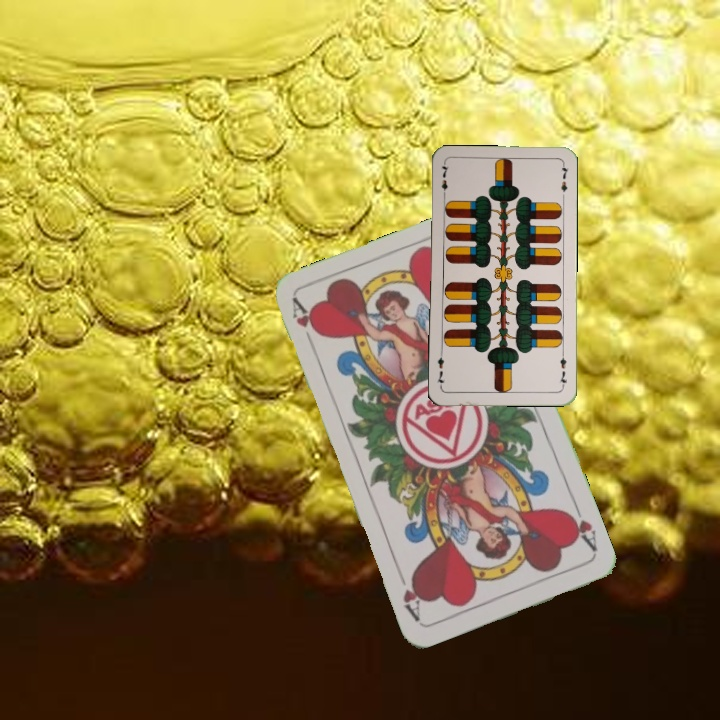E7: (437, 160, 451, 201), (556, 349, 569, 390)
HA: (562, 499, 600, 555), (288, 295, 324, 353)
